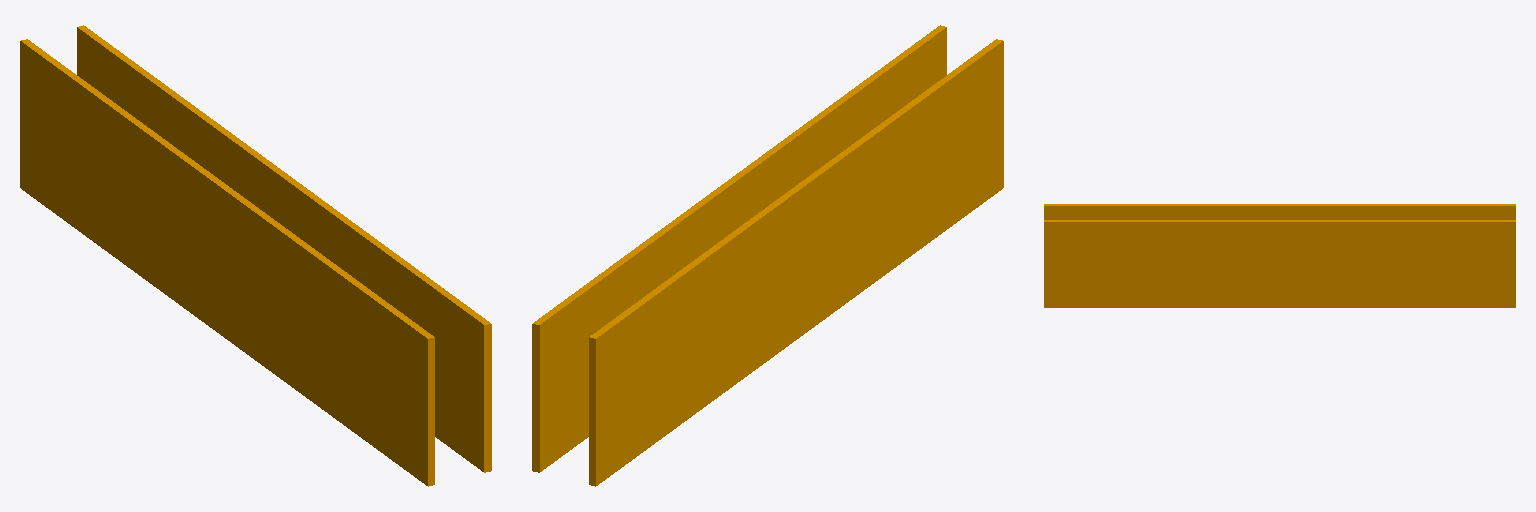
URDF robot description (crevice_terrain):
<?xml version="1.0"?>
<robot name="crevice_terrain">
  <link name="terrain_link">
    <visual>
      <geometry>
        <mesh filename="crevice_70cm.obj" />
      </geometry>
    </visual>
    <collision>
      <geometry>
        <mesh filename="crevice_70cm.obj" />
      </geometry>
    </collision>
  </link>
</robot>

--- Facts derived from the render (not from the file) ---
The picture shows the robot from 3 angles, left to right: view 1: azimuth 30°, elevation 25°; view 2: azimuth 150°, elevation 25°; view 3: azimuth 270°, elevation 25°; orthographic projection.
Model crevice_terrain with 1 links and 0 joints (none), rooted at terrain_link, posed all joints at 0.
Links seen in each view (by area): view 1: terrain_link; view 2: terrain_link; view 3: terrain_link.
Link boxes in pixels (<box>): terrain_link: <box>20,25,491,486</box>; terrain_link: <box>532,25,1003,486</box>; terrain_link: <box>1044,204,1515,307</box>.
Size in the robot's own frame: 0.9 by 10 by 2 metres.
Meshes: 1 distinct files referenced, 1 mesh visuals loaded (1 OBJ).
